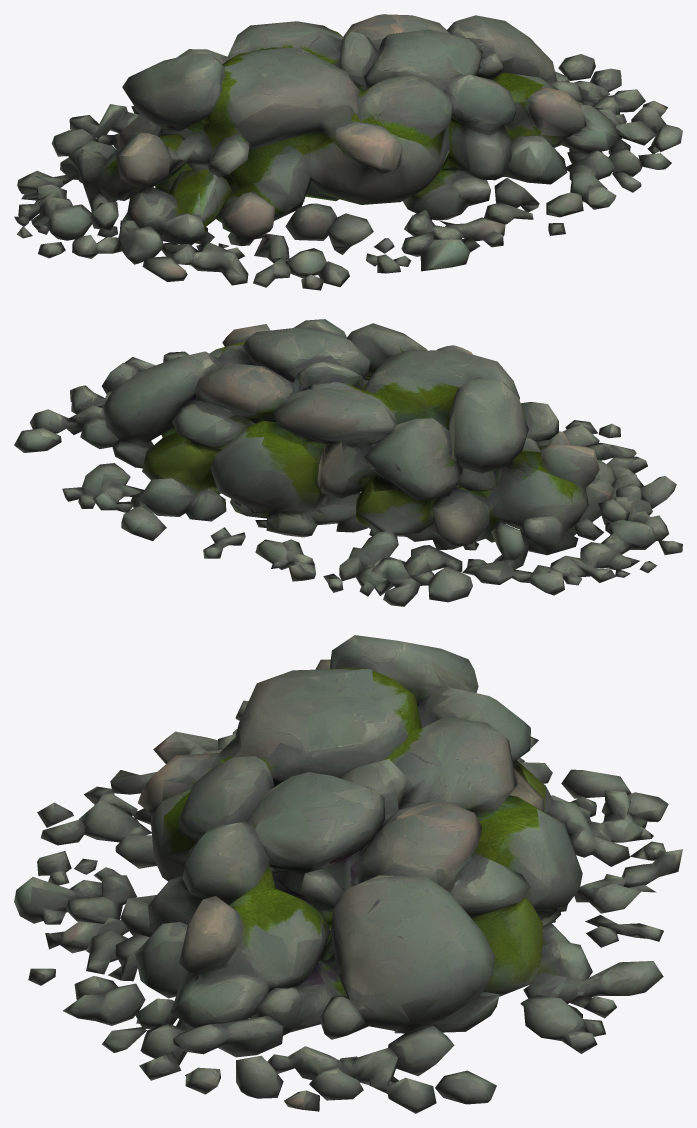
File: bank.glb
The picture shows the model from 3 angles, top to bottom: view 1: azimuth 30°, elevation 25°; view 2: azimuth 150°, elevation 25°; view 3: azimuth 270°, elevation 25°; orthographic projection. The views are drawn at different scales.
Parts seen in each view (by area): view 1: BANK; view 2: BANK; view 3: BANK.
Part boxes in pixels (bbox=[...]): BANK: bbox=[14, 14, 682, 290]; BANK: bbox=[14, 319, 682, 606]; BANK: bbox=[14, 635, 682, 1113].
Size of the model in its own units: 2.6 by 0.5828 by 1.8.
1 material, 1 textured.
